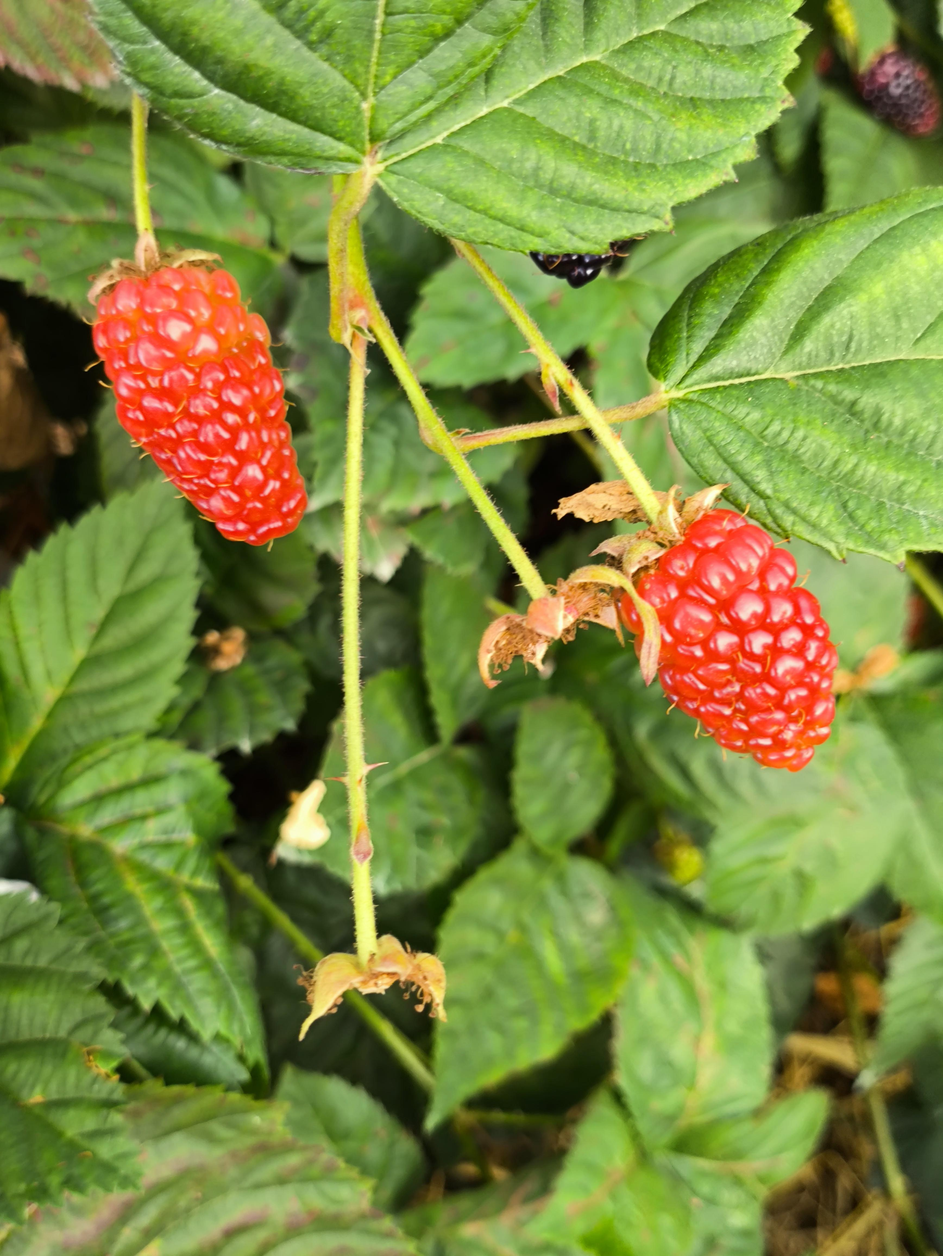naranja: (93, 263, 307, 545), (637, 510, 837, 771)
